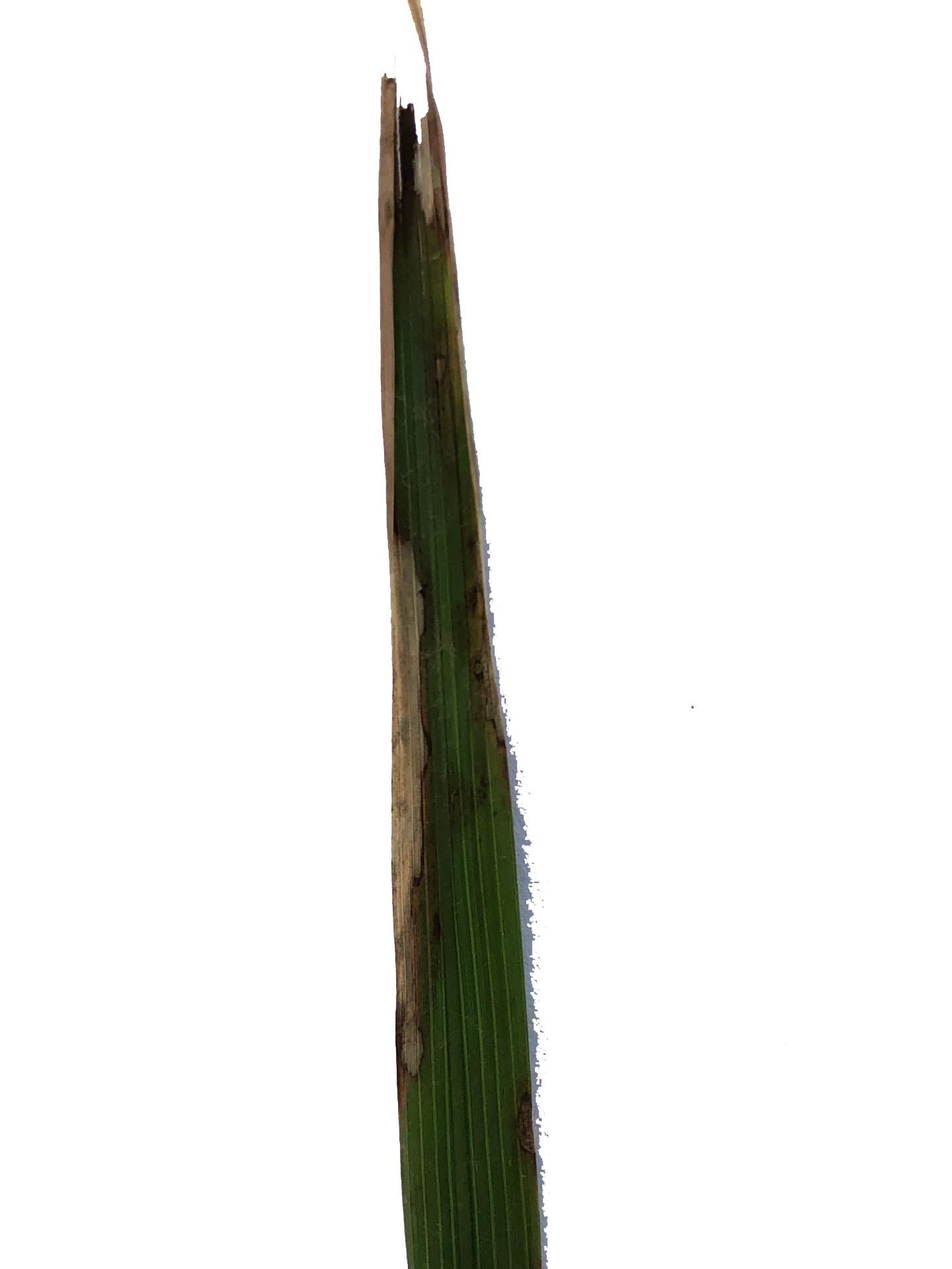Blight: (393, 522, 453, 1067), (367, 79, 466, 344)
